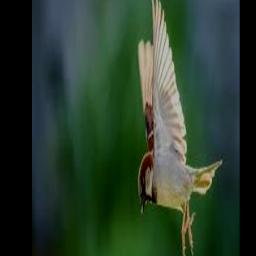Sparrow: (137, 0, 223, 256)
